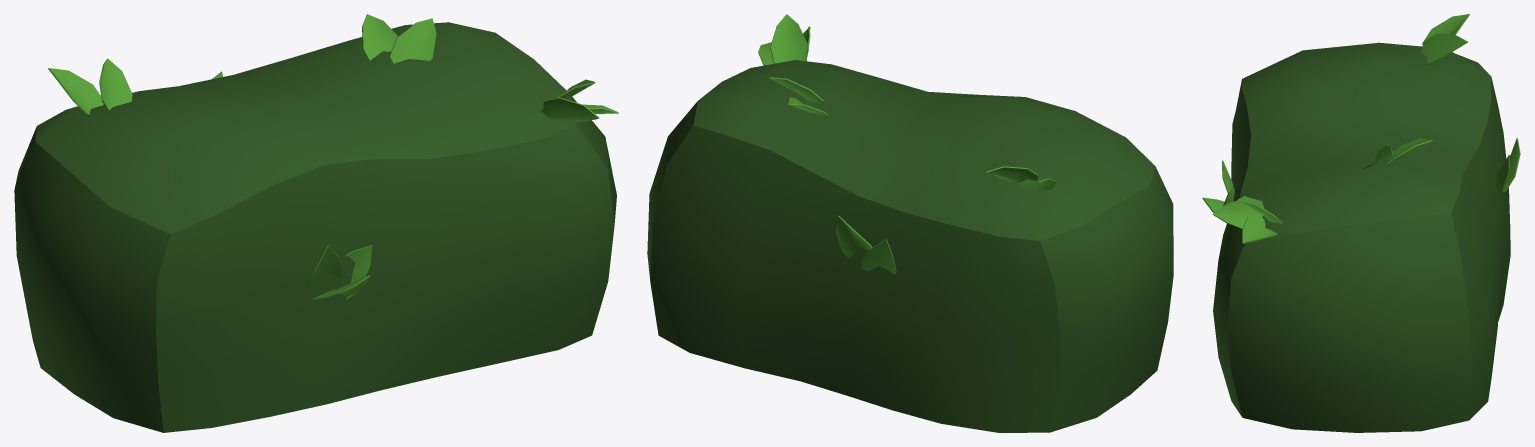
Rendered from Hedge.fbx.
3 renders of one model, left to right at view 1: azimuth 30°, elevation 25°; view 2: azimuth 150°, elevation 25°; view 3: azimuth 270°, elevation 25°, orthographic. The views are drawn at different scales.
Visible parts, largest first — view 1: Hedge; view 2: Hedge; view 3: Hedge.
Boxes of the visible parts, x1,y1,x2,y2 form: Hedge: [14, 14, 618, 432]; Hedge: [647, 14, 1173, 432]; Hedge: [1202, 14, 1520, 432].
Size of the model in its own units: 4.92 by 2.41 by 2.99.
